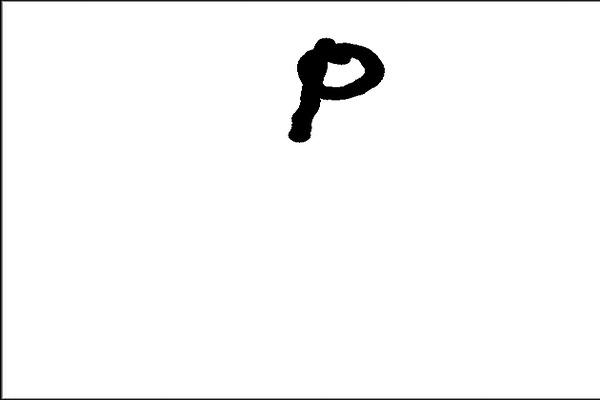P: (271, 35, 392, 154)
